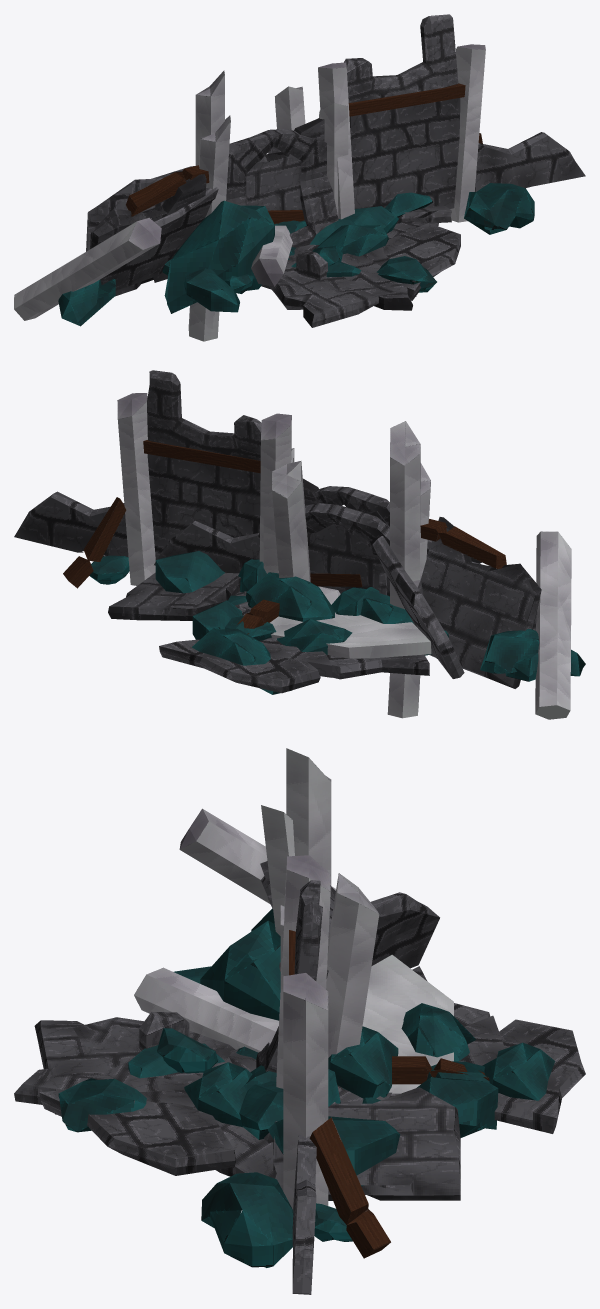
Rendered from scattered_ruins.gltf.
The picture shows the model from 3 angles, top to bottom: view 1: azimuth 30°, elevation 25°; view 2: azimuth 150°, elevation 25°; view 3: azimuth 270°, elevation 25°; orthographic projection. The views are drawn at different scales.
Visible parts, largest first — view 1: Scatter5, Scatter4, Scatter1, Scatter 6, Scatter3, Scatter 7, Scatter2, Scatter 8; view 2: Scatter5, Scatter4, Scatter1, Scatter2, Scatter 7, Scatter3, Scatter 8, Scatter 6; view 3: Scatter5, Scatter1, Scatter3, Scatter 8, Scatter 7, Scatter 6, Scatter4, Scatter2.
Boxes of the visible parts, left/top/right/bottom form: Scatter5: left=90, top=14, right=585, bottom=341; Scatter4: left=14, top=70, right=398, bottom=326; Scatter1: left=86, top=178, right=451, bottom=313; Scatter 6: left=183, top=247, right=436, bottom=327; Scatter3: left=251, top=192, right=438, bottom=289; Scatter 7: left=151, top=166, right=412, bottom=310; Scatter2: left=226, top=86, right=338, bottom=290; Scatter 8: left=288, top=223, right=460, bottom=300; Scatter5: left=14, top=370, right=541, bottom=718; Scatter4: left=154, top=421, right=585, bottom=719; Scatter1: left=108, top=536, right=464, bottom=679; Scatter2: left=245, top=461, right=389, bottom=621; Scatter 7: left=159, top=615, right=320, bottom=693; Scatter3: left=155, top=551, right=386, bottom=615; Scatter 8: left=192, top=591, right=332, bottom=694; Scatter 6: left=238, top=557, right=481, bottom=654; Scatter5: left=201, top=805, right=390, bottom=1294; Scatter1: left=200, top=892, right=498, bottom=1200; Scatter3: left=134, top=962, right=400, bottom=1186; Scatter 8: left=39, top=1015, right=555, bottom=1175; Scatter 7: left=14, top=1017, right=585, bottom=1133; Scatter 6: left=34, top=966, right=476, bottom=1132; Scatter4: left=179, top=748, right=345, bottom=1139; Scatter2: left=256, top=873, right=398, bottom=1098.
Bounding box in the file's own units: 15.56 × 7.25 × 9.54.
Materials: 1 (1 with a texture image).
